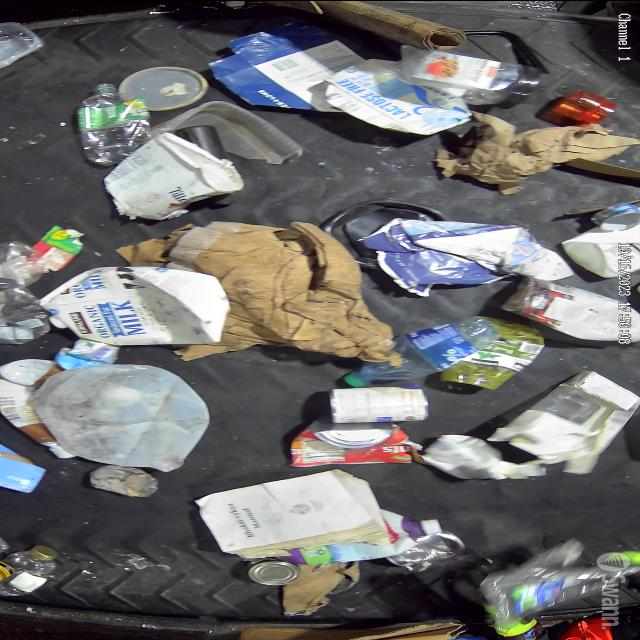can: (290, 421, 414, 469), (329, 385, 434, 425), (240, 556, 304, 583)
plastic_bottle: (36, 362, 209, 467), (348, 315, 507, 387), (80, 84, 148, 162)
